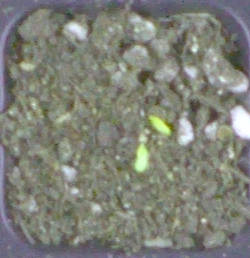pepper seed: (58, 55, 207, 228), (61, 44, 235, 181)
